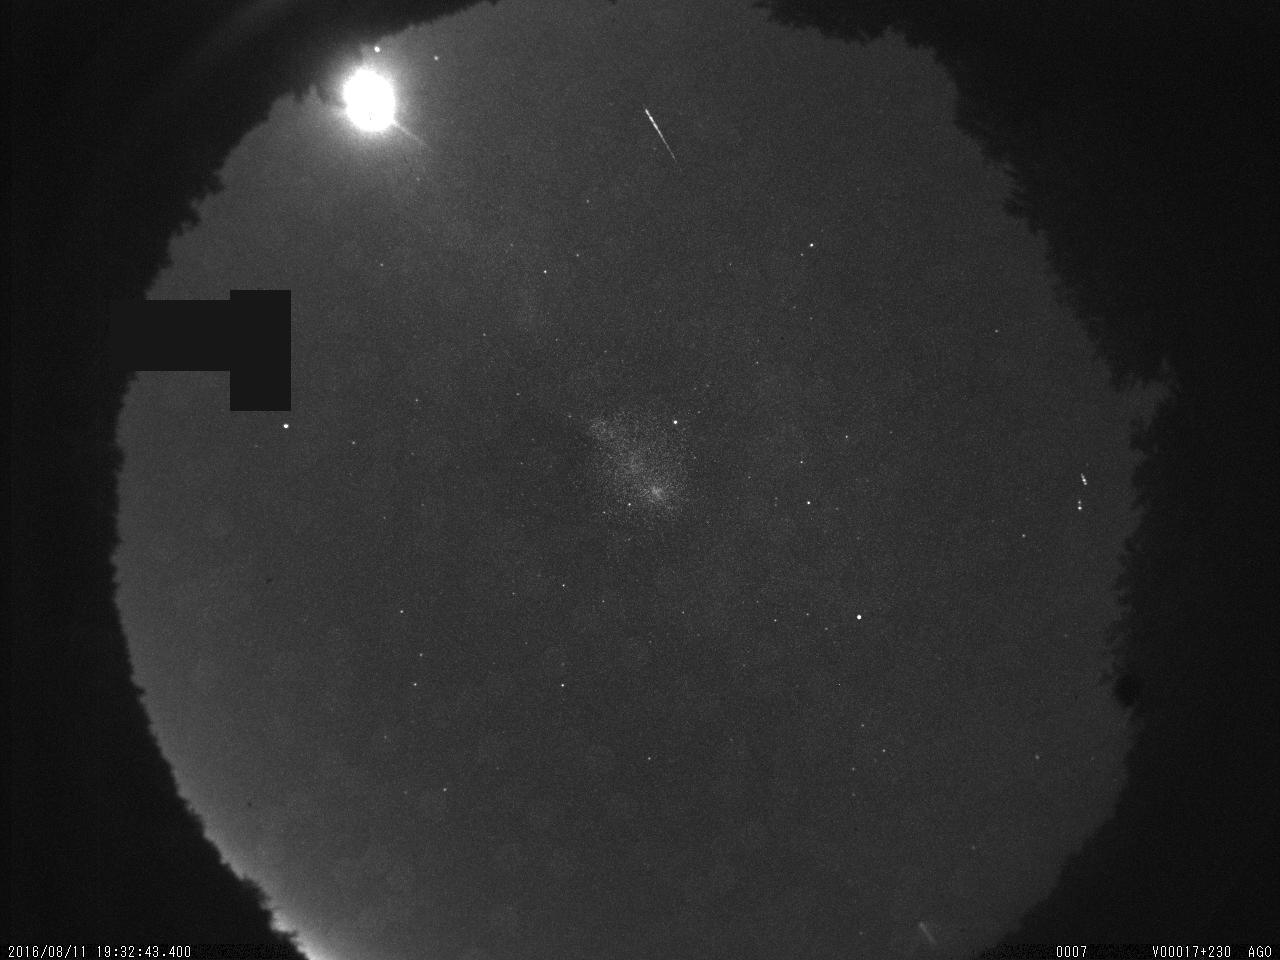Meteor: (642, 102, 680, 170), (1076, 468, 1092, 491)
